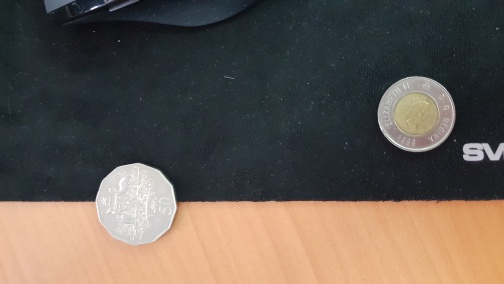coin: (96, 161, 178, 247), (376, 74, 457, 154)
